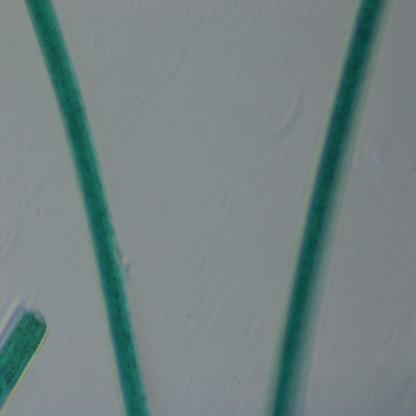Microfibre: (25, 0, 151, 414), (269, 1, 388, 415), (0, 298, 49, 410)
